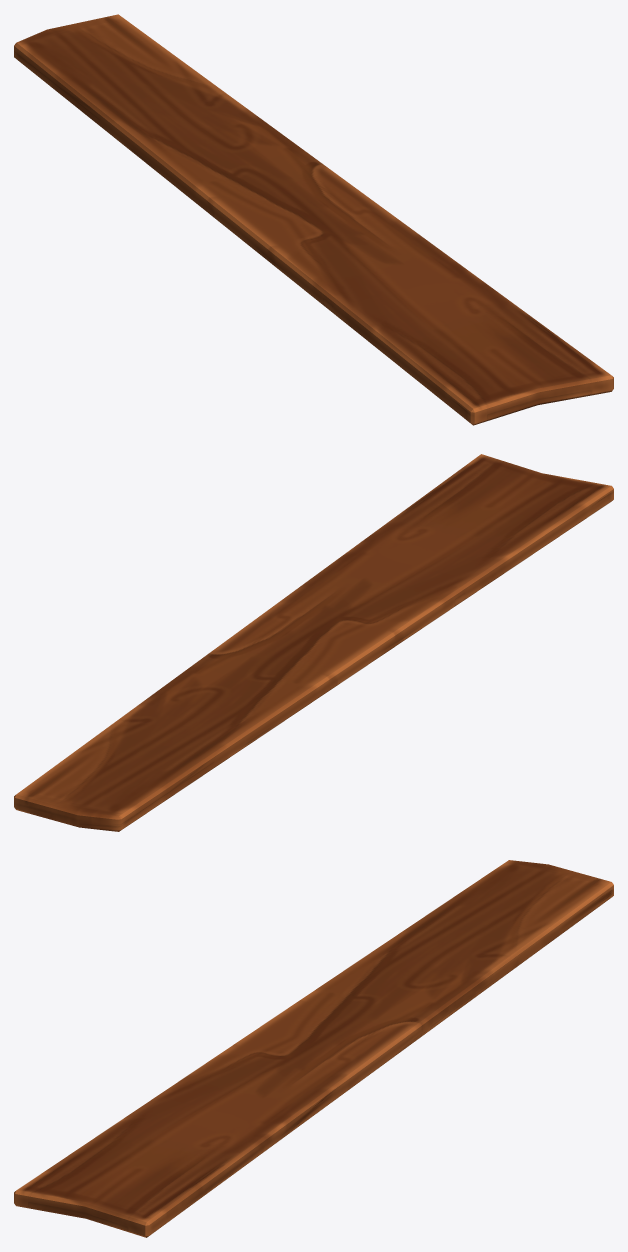
Rendered from Tabla1.fbx.
3 renders of one model, top to bottom at view 1: azimuth 30°, elevation 25°; view 2: azimuth 150°, elevation 25°; view 3: azimuth 330°, elevation 25°, orthographic. The views are drawn at different scales.
Visible parts, largest first — view 1: 1_Tabla_Original; view 2: 1_Tabla_Original; view 3: 1_Tabla_Original.
Part boxes in pixels (bbox=[...]): 1_Tabla_Original: bbox=[14, 14, 613, 425]; 1_Tabla_Original: bbox=[14, 454, 613, 831]; 1_Tabla_Original: bbox=[14, 860, 613, 1237].
Bounding box in the file's own units: 35.98 × 4 × 217.
